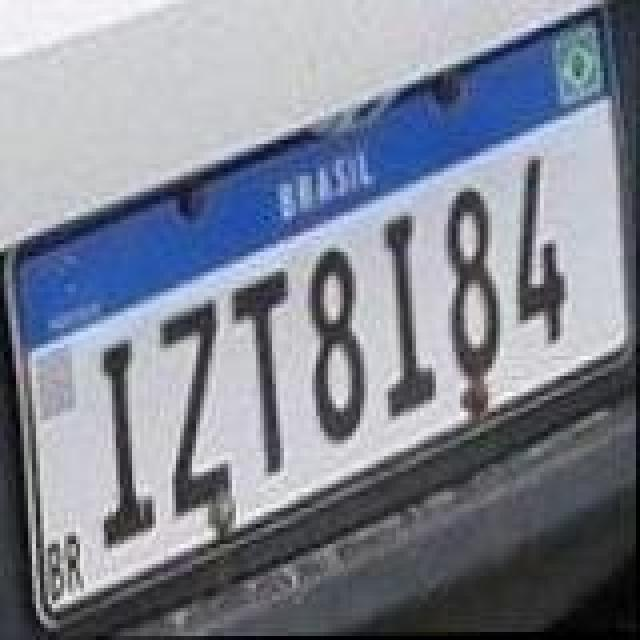4: (514, 160, 570, 356)
8: (306, 244, 370, 444), (444, 184, 504, 380)
I: (100, 338, 160, 554), (382, 212, 438, 420)
T: (232, 266, 292, 478)
Z: (160, 300, 236, 520)
